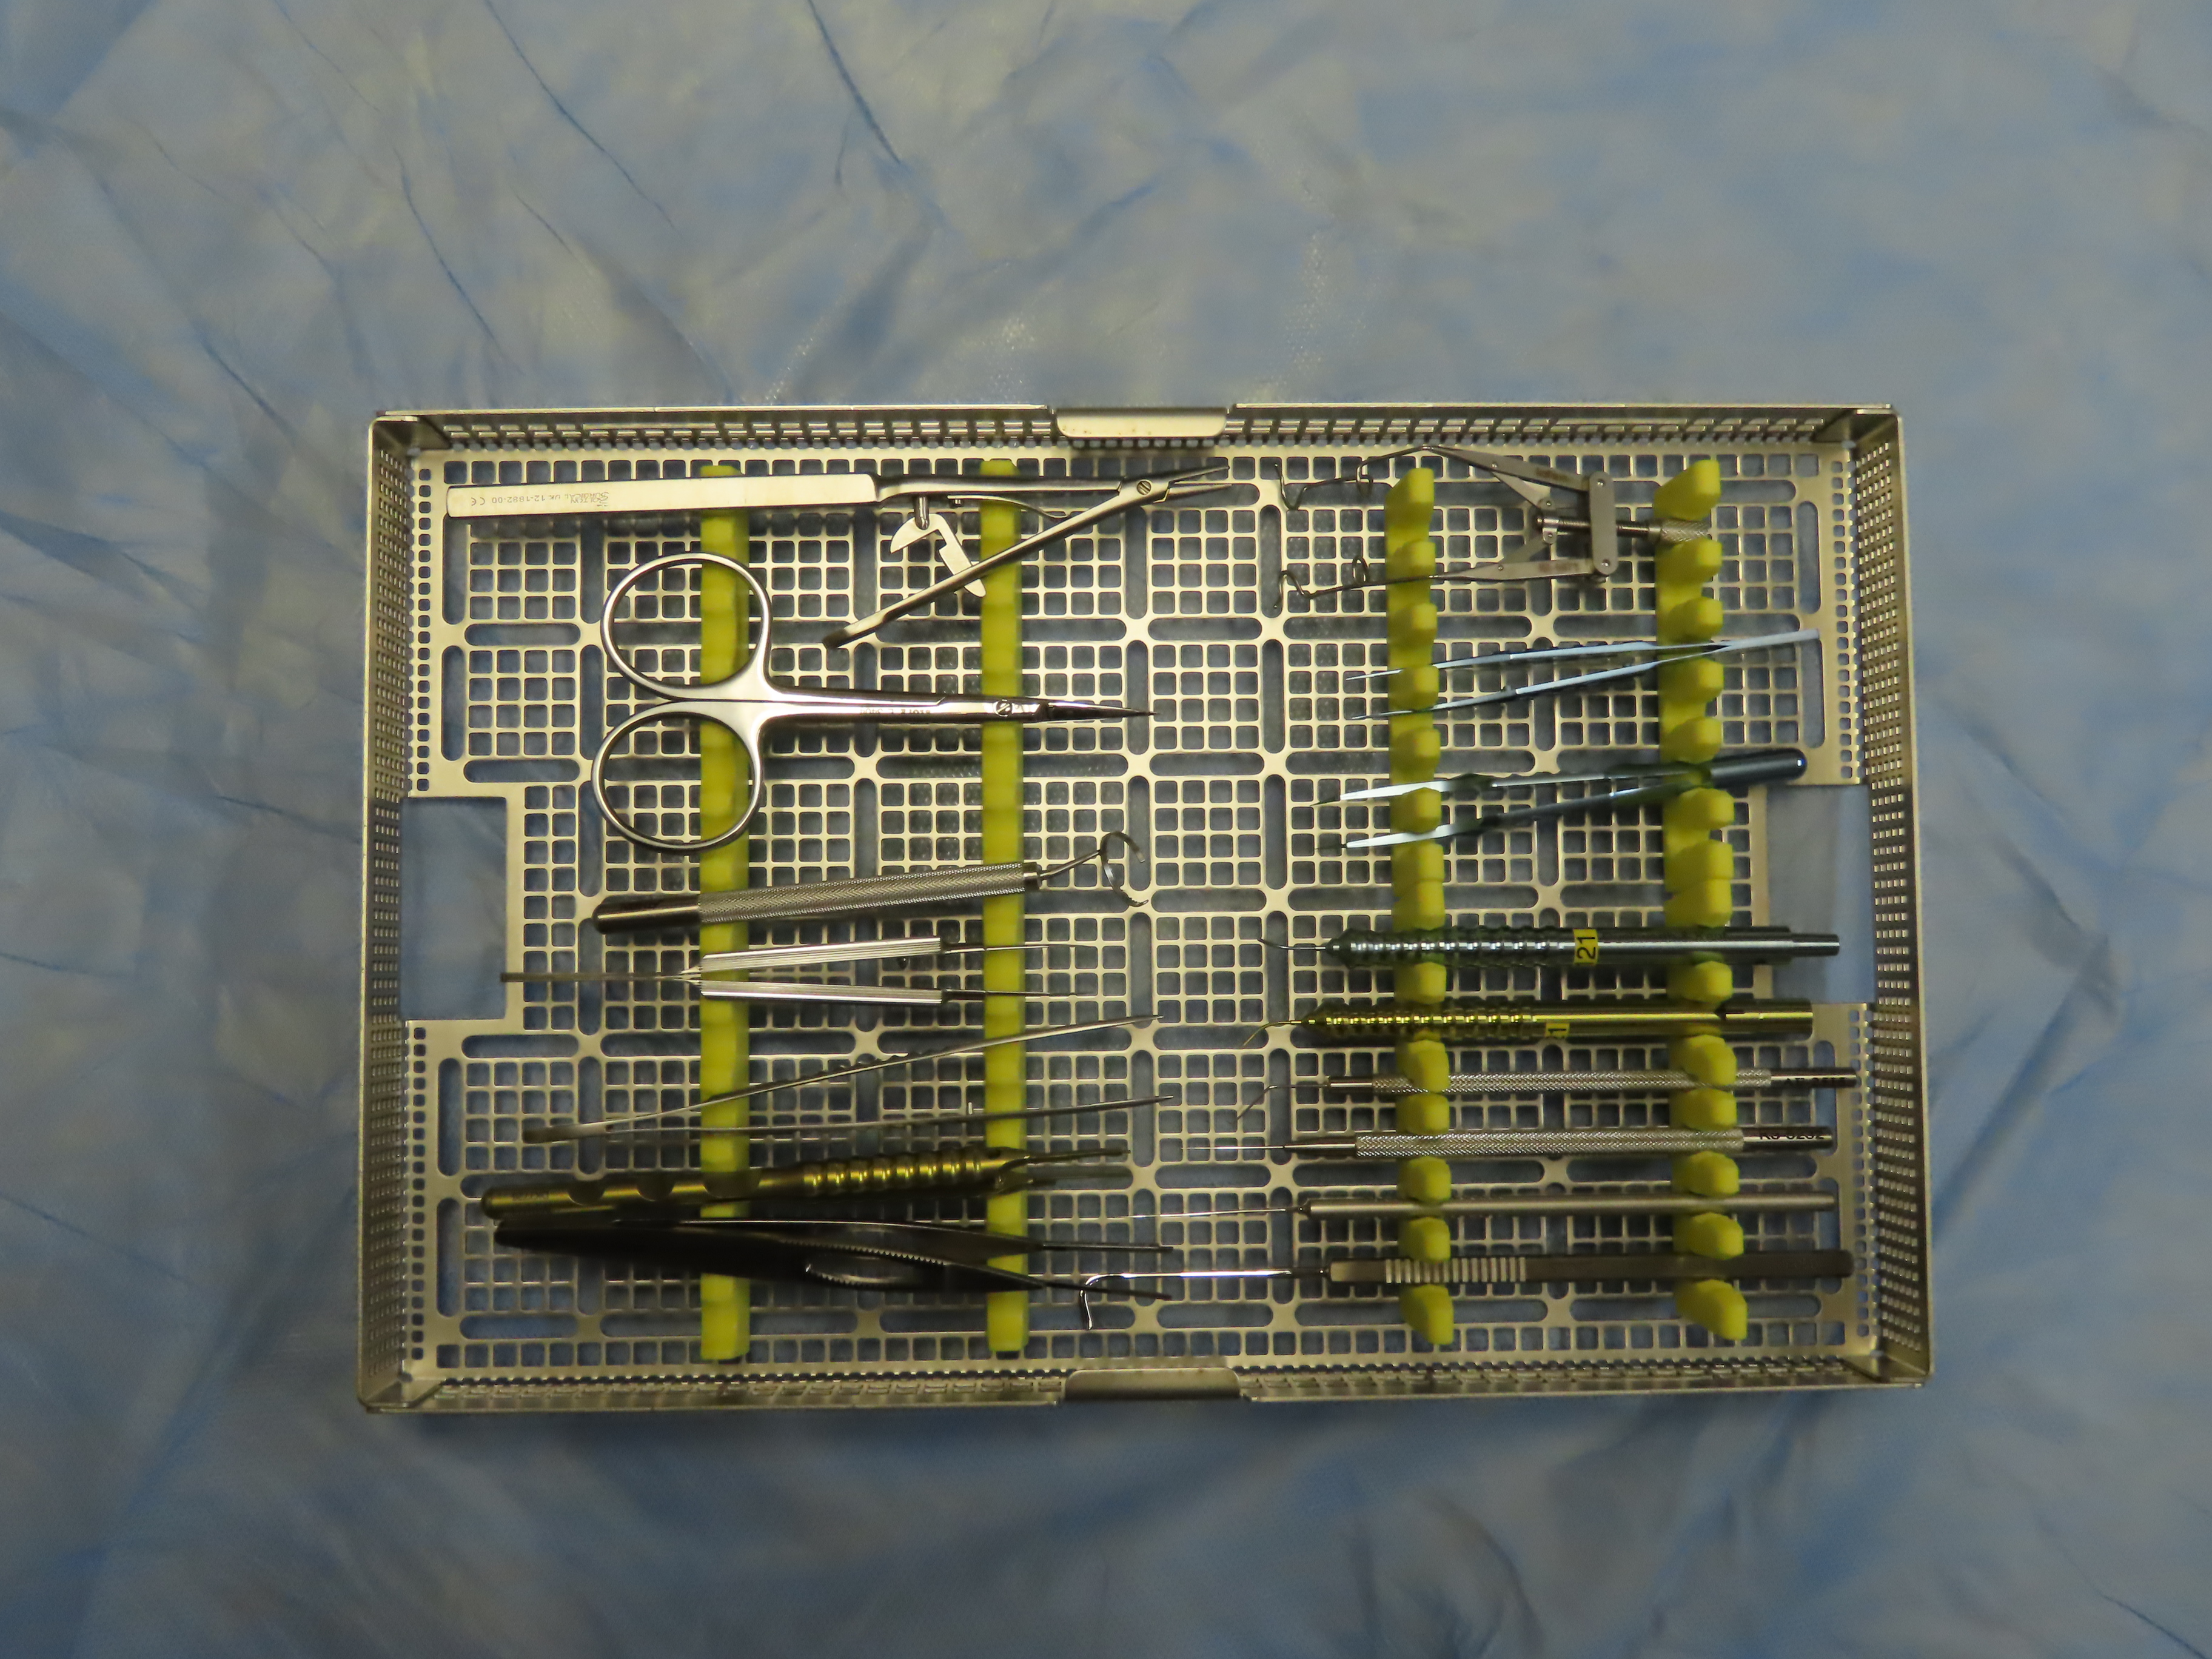Chopper: (1230, 1066, 1872, 1115)
Dressing Forceps: (488, 1201, 1186, 1312), (503, 1018, 1191, 1126)
Fixation Ring: (580, 833, 1170, 939)
Handpiece: (1237, 913, 1846, 976), (1244, 1000, 1829, 1053)
Hook Surgical: (1071, 1248, 1876, 1310), (1176, 1117, 1851, 1173)
Iris Scissors: (601, 556, 1174, 866)
Needle Holder: (434, 469, 1247, 626)
Spatula Surgical: (1122, 1187, 1858, 1222)
Speculum: (1264, 436, 1707, 605)
Tissue Forceps: (1301, 748, 1829, 861), (495, 931, 1108, 1019), (1312, 627, 1824, 730), (463, 1143, 1184, 1204)
